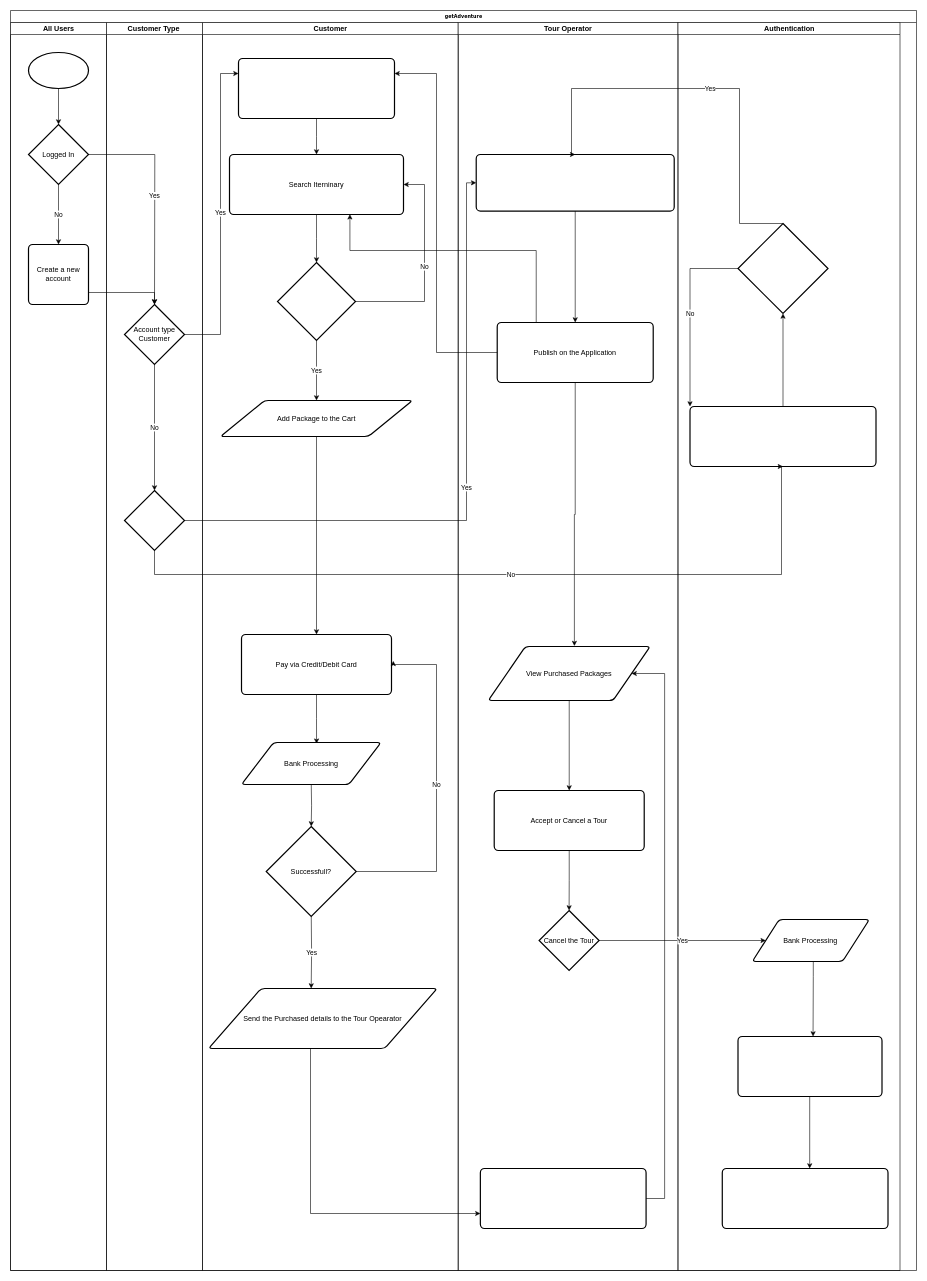
This 927x1281 diagram has some shape labels left out. The centre of each missing label's shape, as x and y in pixels:
"Accessing the application" belongs at pixel 58 70.
"Authenticated Operator?" belongs at pixel 154 520.
"Create a new Intineariray Plan" belongs at pixel 575 182.
"Find Tour Operators." belongs at pixel 316 88.
"Is the tour operator licensed?" belongs at pixel 782 268.
"Notifiy the Customer" belongs at pixel 804 1198.
"Notifiy the Tour Operator" belongs at pixel 562 1198.
"Refund the Money" belongs at pixel 809 1066.
"Request for authentication." belongs at pixel 782 436.
"Tour Available?" belongs at pixel 316 301.
